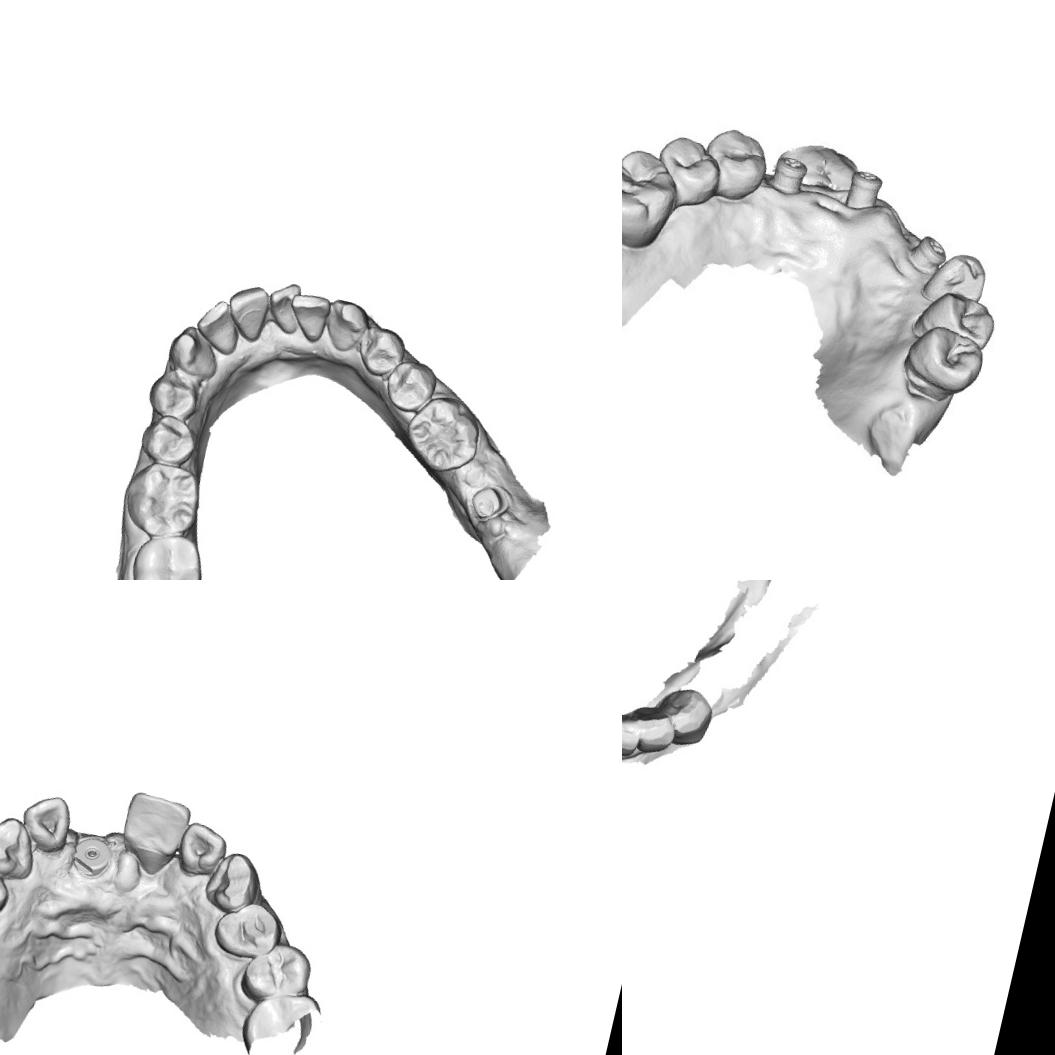abutment: (465, 479, 512, 529)
canine: (199, 844, 265, 918), (654, 682, 721, 752), (924, 248, 991, 312), (160, 320, 226, 384), (316, 295, 374, 358), (0, 809, 45, 884)
implant: (64, 828, 122, 886)
implant_plus: (904, 229, 952, 280), (842, 162, 887, 214), (766, 149, 811, 196)
incisor: (112, 788, 195, 882), (14, 786, 80, 858), (172, 818, 233, 884), (216, 278, 274, 347), (190, 294, 249, 358), (626, 702, 683, 760), (282, 288, 338, 346), (259, 276, 309, 338), (622, 705, 647, 763)
molar: (114, 454, 210, 548), (396, 386, 490, 481), (622, 140, 684, 253), (122, 524, 213, 580)
premolar: (233, 933, 318, 1015), (898, 322, 988, 398), (693, 122, 772, 206), (913, 284, 1002, 355), (207, 893, 286, 967), (652, 130, 724, 206), (132, 407, 206, 474), (379, 353, 443, 419), (142, 363, 206, 425), (350, 321, 412, 384), (0, 849, 17, 922)
